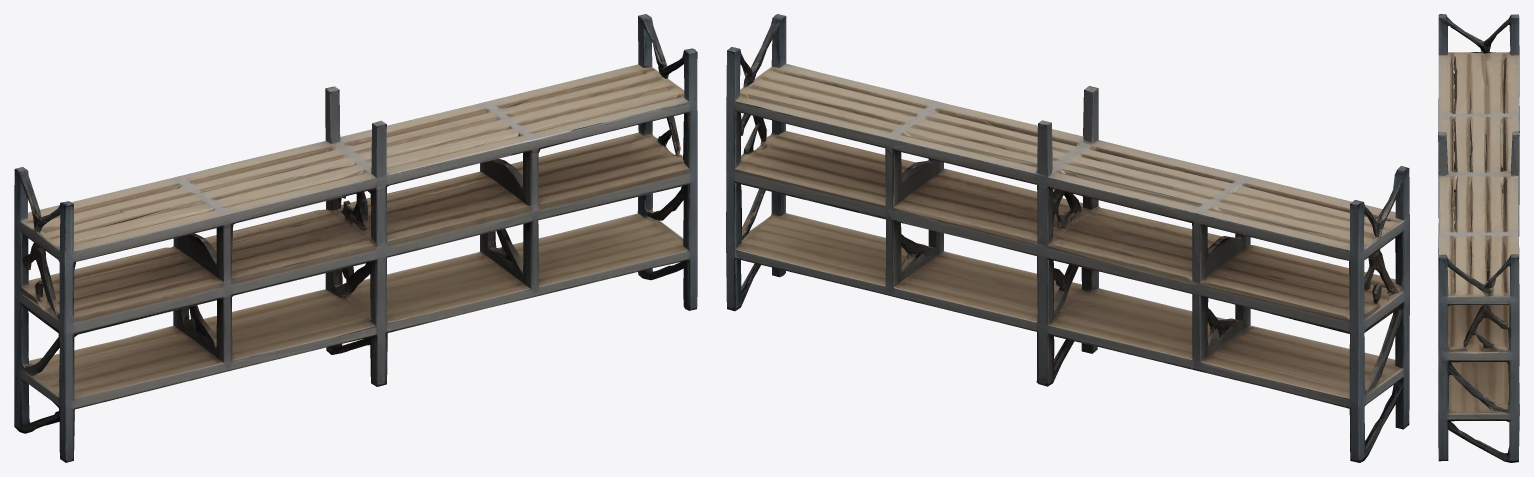
File: shelf_warehouse_3tier.glb
The picture shows the model from 3 angles, left to right: view 1: azimuth 30°, elevation 25°; view 2: azimuth 150°, elevation 25°; view 3: azimuth 270°, elevation 25°; orthographic projection. The views are drawn at different scales.
Parts seen in each view (by area): view 1: geometry_0; view 2: geometry_0; view 3: geometry_0.
Boxes of the visible parts, x1=… form: geometry_0: x1=14, y1=14, x2=697, y2=462; geometry_0: x1=726, y1=14, x2=1409, y2=462; geometry_0: x1=1438, y1=14, x2=1519, y2=462.
Size of the model in its own units: 1 by 0.3978 by 0.1418.
Materials: 1 (1 with a texture image).
